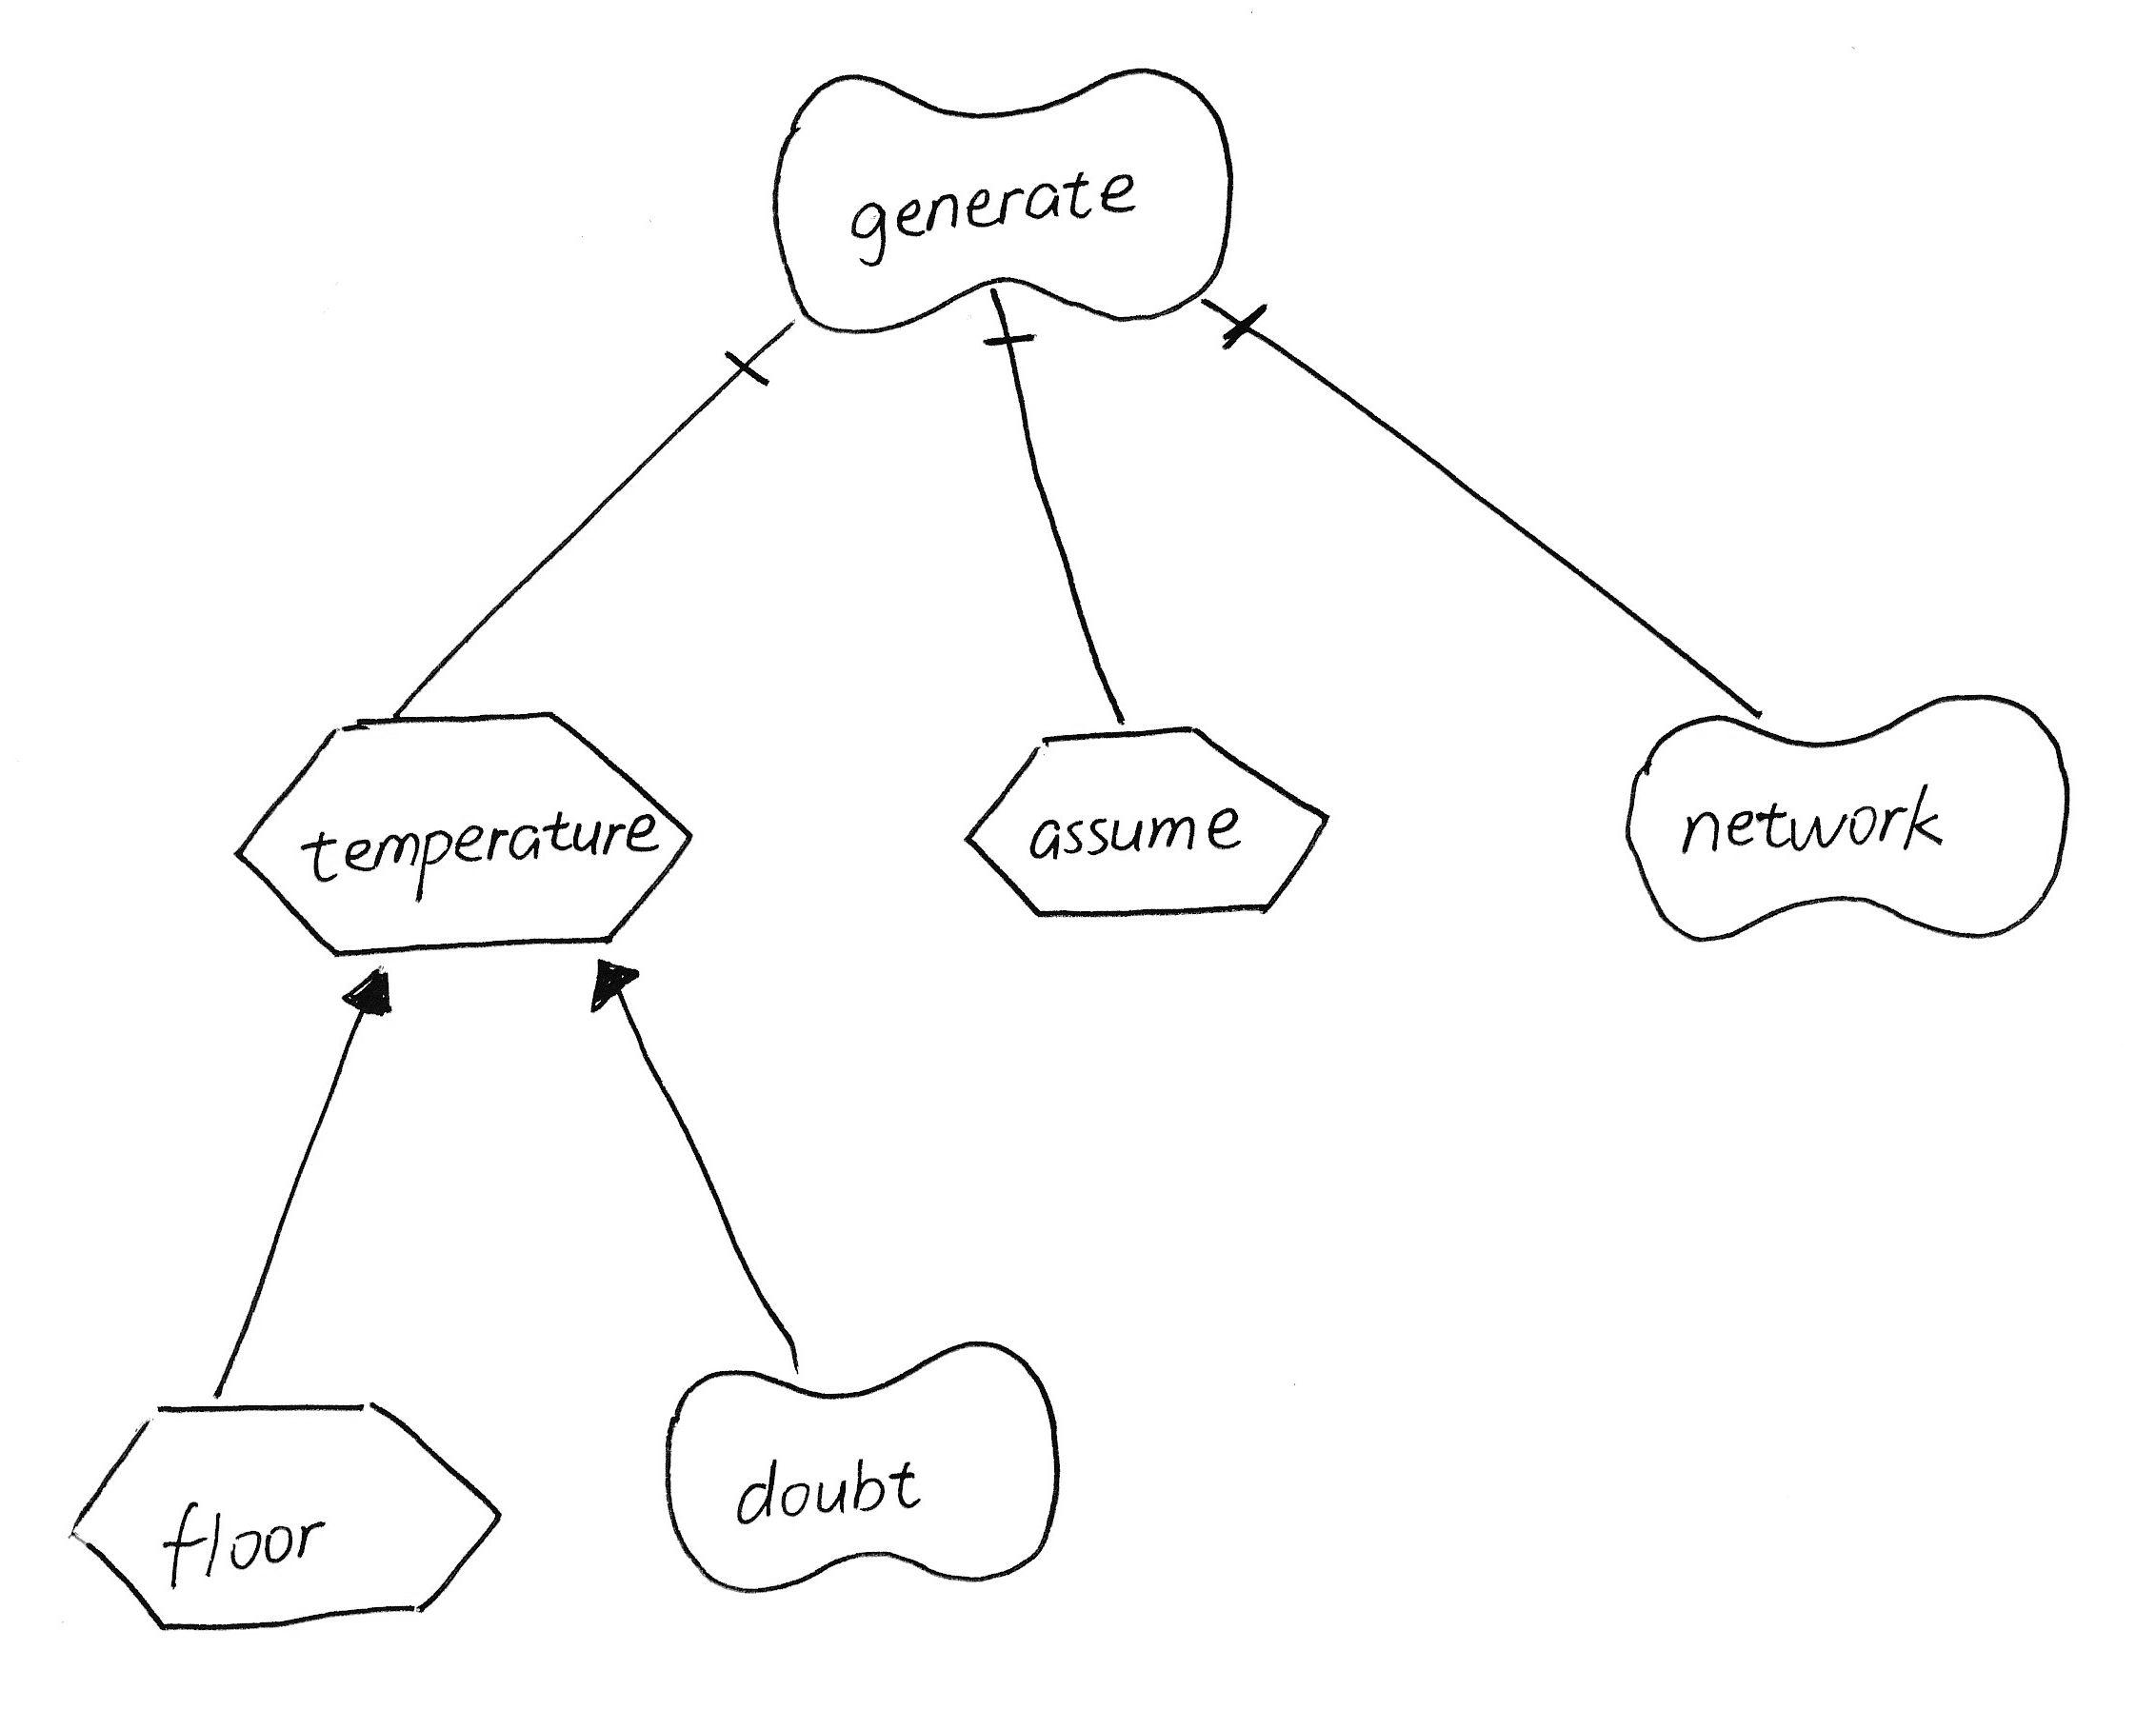and: (719, 318, 810, 397), (1190, 288, 1280, 365), (973, 281, 1044, 365)
or: (574, 948, 652, 1026), (337, 957, 397, 1027)
quality: (756, 49, 1257, 351), (1603, 676, 2092, 964), (646, 1322, 1084, 1603)
task: (219, 688, 701, 974), (53, 1380, 524, 1643), (948, 710, 1347, 937)
